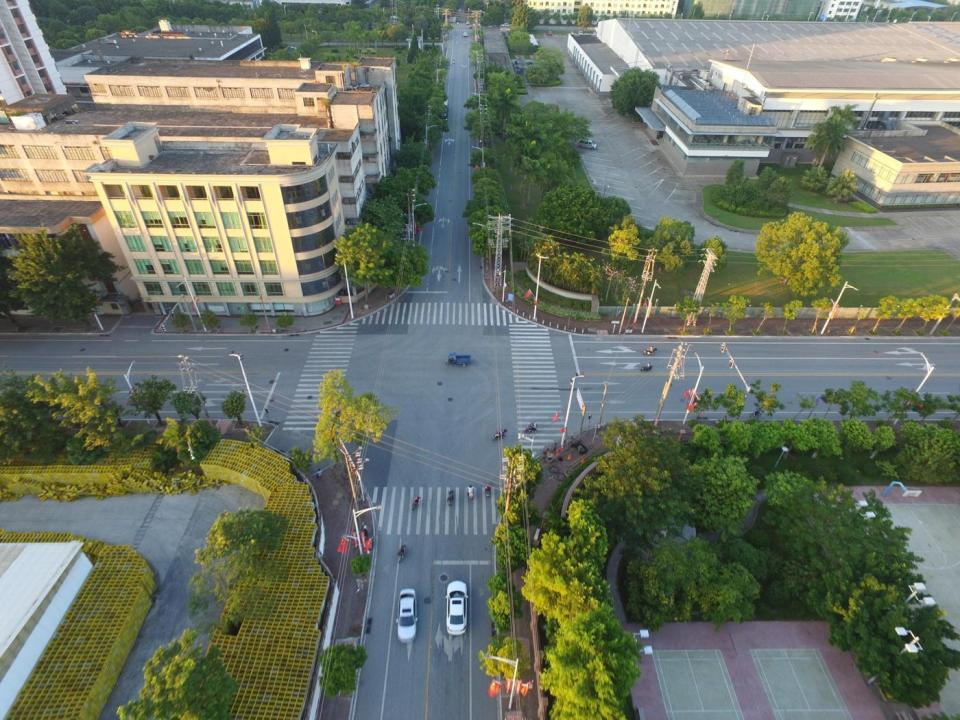bus: (436, 95, 448, 124)
car: (395, 588, 418, 646), (445, 580, 468, 636), (500, 22, 509, 28), (462, 32, 468, 37), (548, 30, 552, 36)
van: (578, 139, 597, 151)
